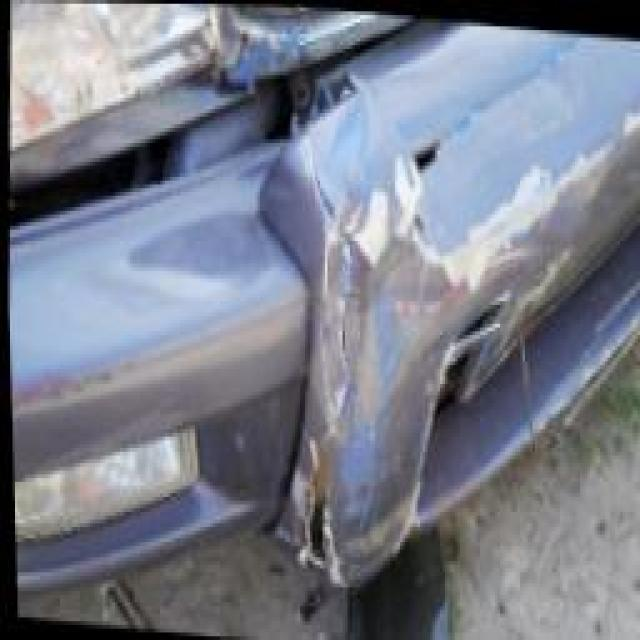Bumper: (220, 4, 619, 609)
